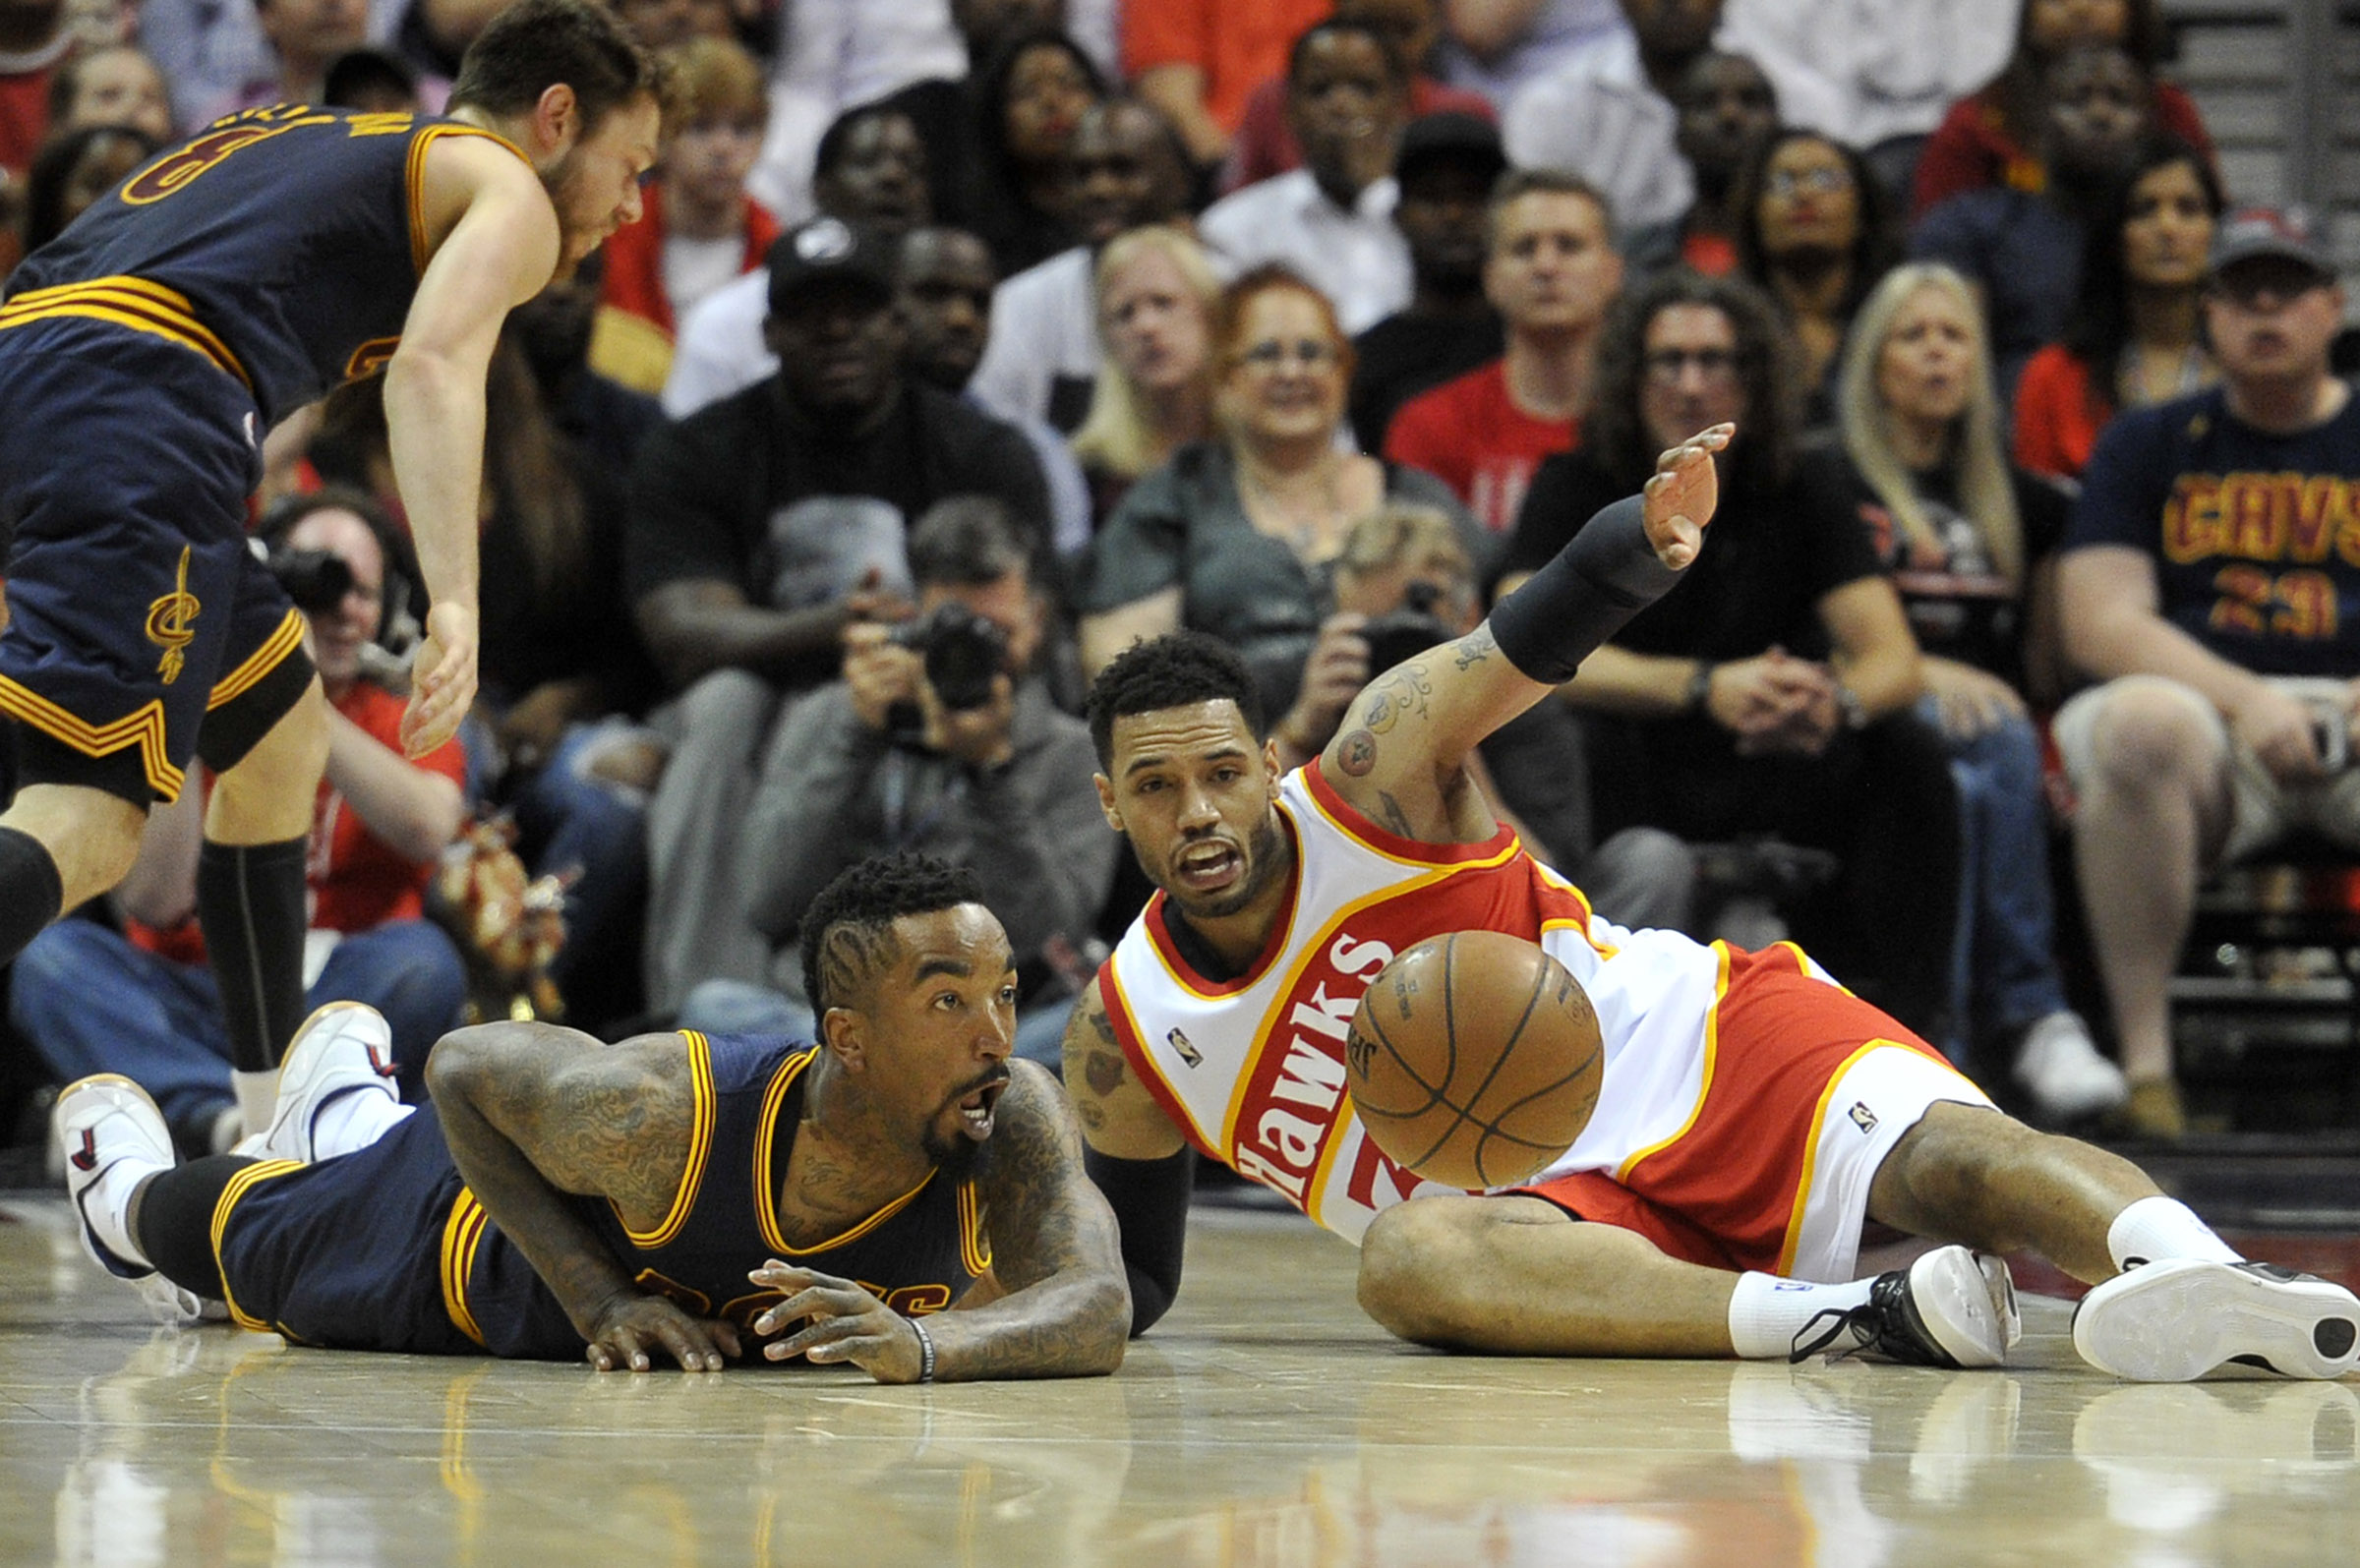10+: (14, 2, 2356, 1200)
down: (889, 383, 2360, 1407), (46, 843, 1161, 1416)
